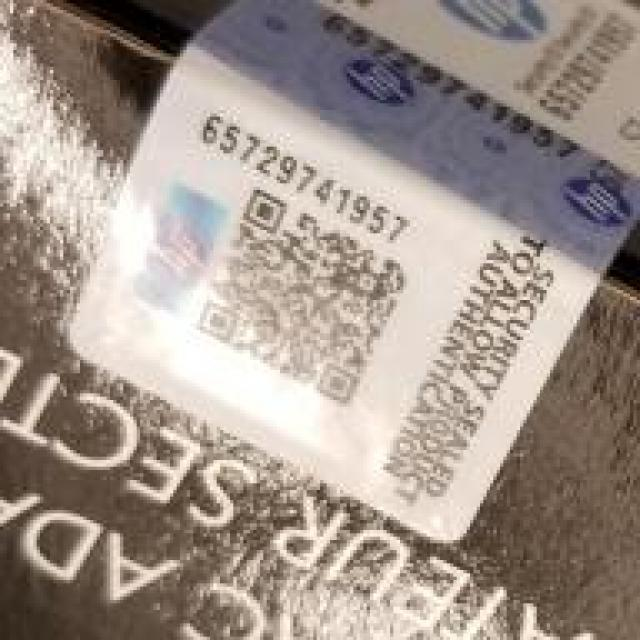qr_code: (195, 188, 406, 405)
